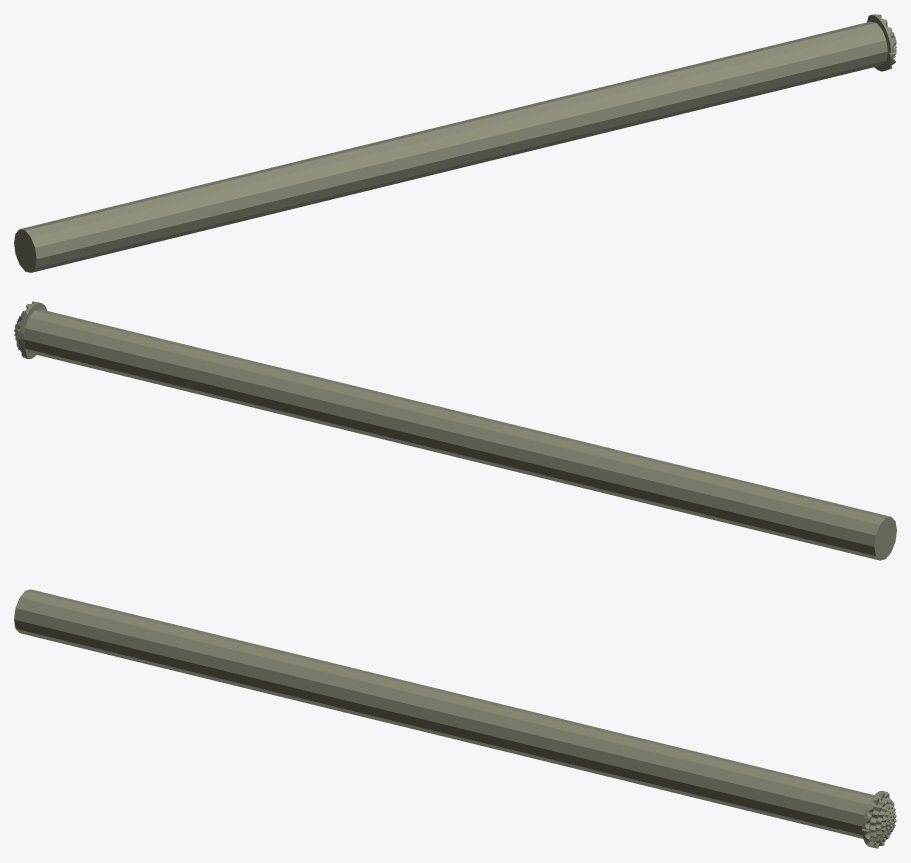
The model's file is StabilizerNearInTurret.gltf.
3 views of the same model, one above another, from view 1: azimuth 30°, elevation 25°; view 2: azimuth 150°, elevation 25°; view 3: azimuth 330°, elevation 25° (orthographic).
Visible parts, largest first — view 1: Mesh_0; view 2: Mesh_0; view 3: Mesh_0.
Part boxes in pixels (bbox=[...]): Mesh_0: bbox=[14, 14, 896, 272]; Mesh_0: bbox=[14, 301, 896, 560]; Mesh_0: bbox=[14, 589, 896, 848].
Bounding box in the file's own units: 0.557 × 0.032 × 0.0285.
Materials: 1 (1 with a texture image).
